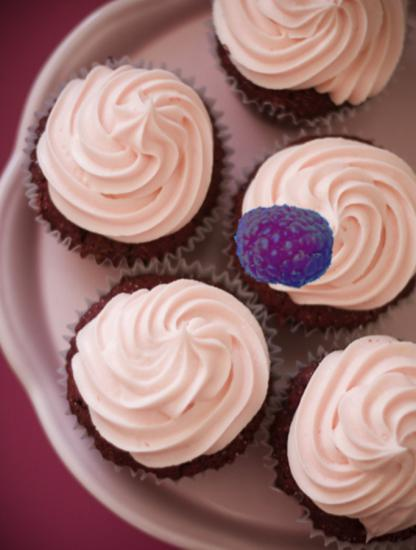Raspberry: (232, 192, 336, 296)
